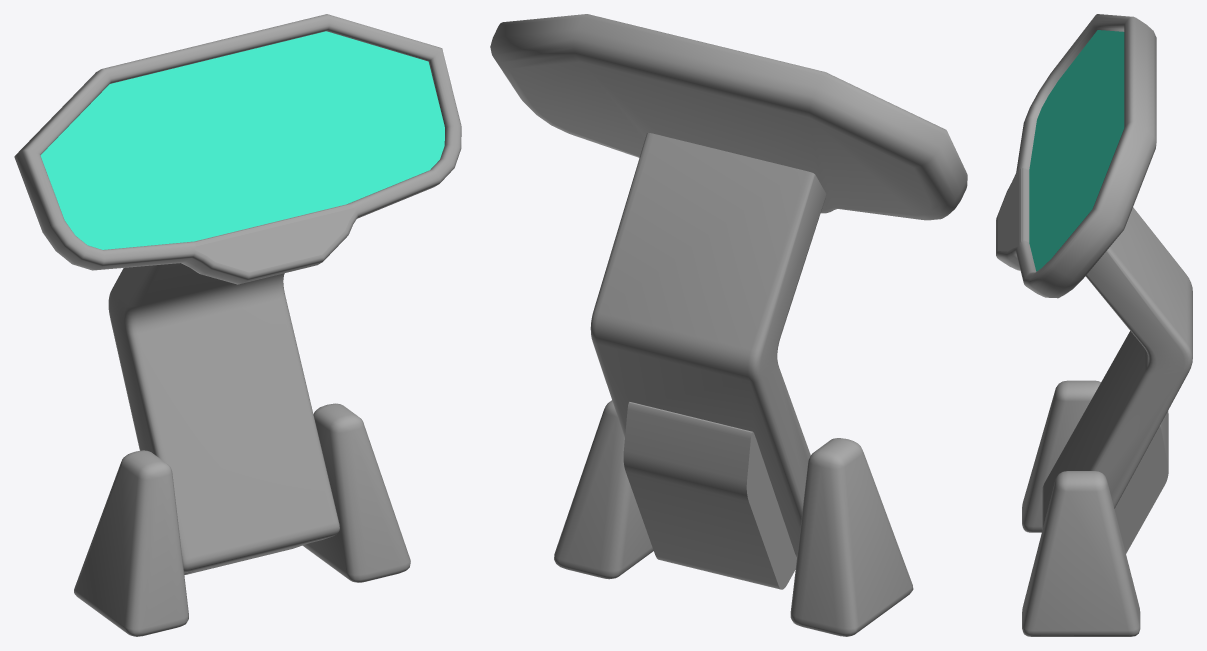
File: ObservatorySimonStand.fbx
The picture shows the model from 3 angles, left to right: view 1: azimuth 30°, elevation 25°; view 2: azimuth 150°, elevation 25°; view 3: azimuth 270°, elevation 25°; orthographic projection. The views are drawn at different scales.
Visible parts, largest first — view 1: Screen, BodyBottom, BodyTop, LeftLeg, RightLeg; view 2: BodyBottom, BodyTop, LeftLeg, RightLeg; view 3: BodyBottom, BodyTop, Screen, RightLeg, LeftLeg.
Part boxes in pixels (<box>): Screen: <box>40,31,444,249</box>; BodyBottom: <box>108,263,339,575</box>; BodyTop: <box>14,14,461,284</box>; LeftLeg: <box>74,450,188,636</box>; RightLeg: <box>302,403,410,582</box>; BodyBottom: <box>590,133,826,589</box>; BodyTop: <box>490,14,967,220</box>; LeftLeg: <box>790,438,913,636</box>; RightLeg: <box>554,400,653,579</box>; BodyBottom: <box>1042,207,1192,553</box>; BodyTop: <box>996,14,1156,298</box>; Screen: <box>1029,30,1124,271</box>; RightLeg: <box>1022,471,1140,636</box>; LeftLeg: <box>1022,380,1100,532</box>.
Size of the model in its own units: 49.09 by 20.7 by 58.58.
